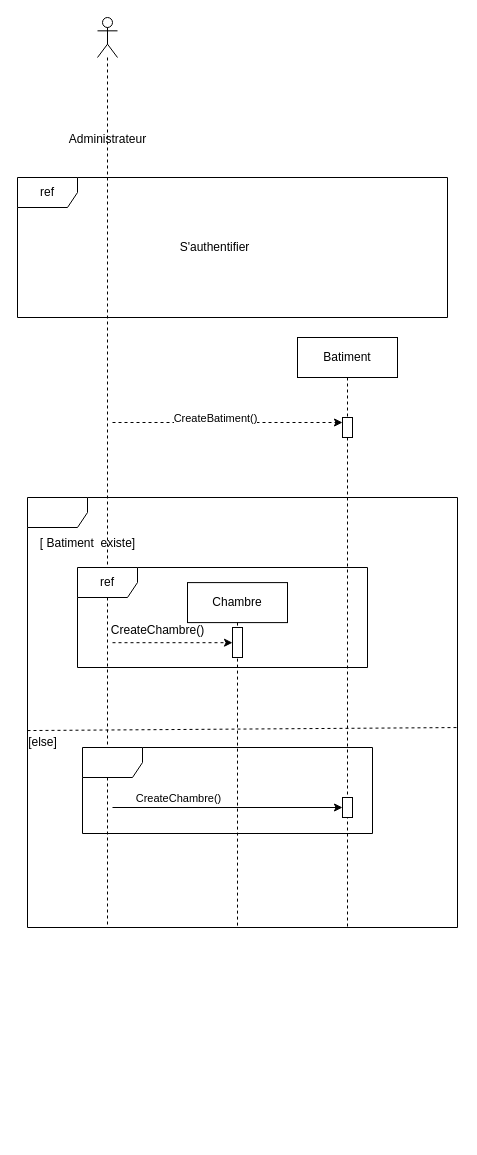
The diagram is 477 pixels wide and 1155 high, and some of its shapes have lost their labels. Here are the shapes that lost their labels. From the top down, the box of each, then its label:
(26, 496, 458, 928): alt
(82, 746, 372, 834): Loop [1,n]
